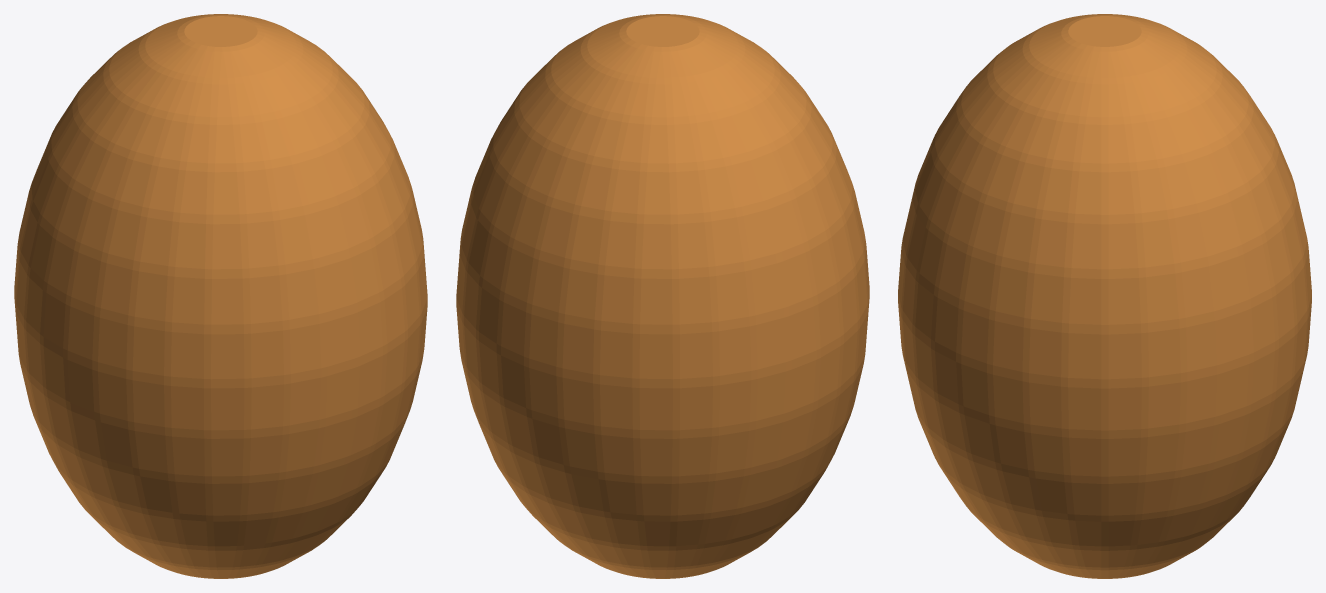
File: EggCarton(Egg)V1.fbx
3 views of the same model, side by side, from view 1: azimuth 30°, elevation 25°; view 2: azimuth 150°, elevation 25°; view 3: azimuth 270°, elevation 25° (orthographic).
Parts seen in each view (by area): view 1: Sphere; view 2: Sphere; view 3: Sphere.
Part boxes in pixels (x1,y1,x2,y2): Sphere: (14, 14, 427, 578); Sphere: (456, 14, 869, 578); Sphere: (898, 14, 1311, 578).
Size of the model in its own units: 73.36 by 73.36 by 104.
